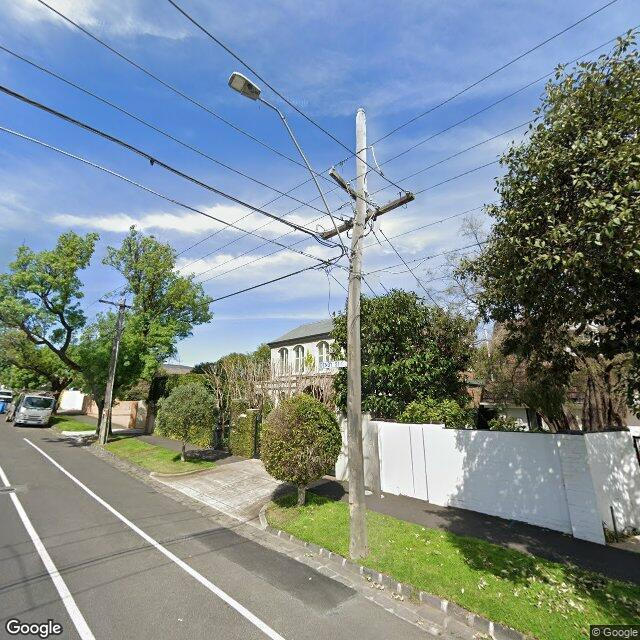crossarm: (321, 192, 415, 240), (329, 168, 376, 220), (99, 300, 134, 308)
streetlight: (228, 72, 354, 271)
timber-pole: (348, 108, 367, 560), (98, 295, 125, 444)
